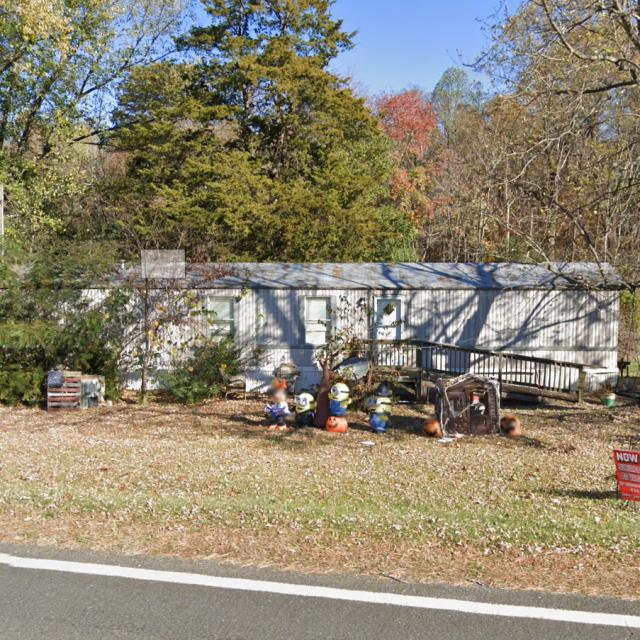House: (0, 262, 633, 393)
